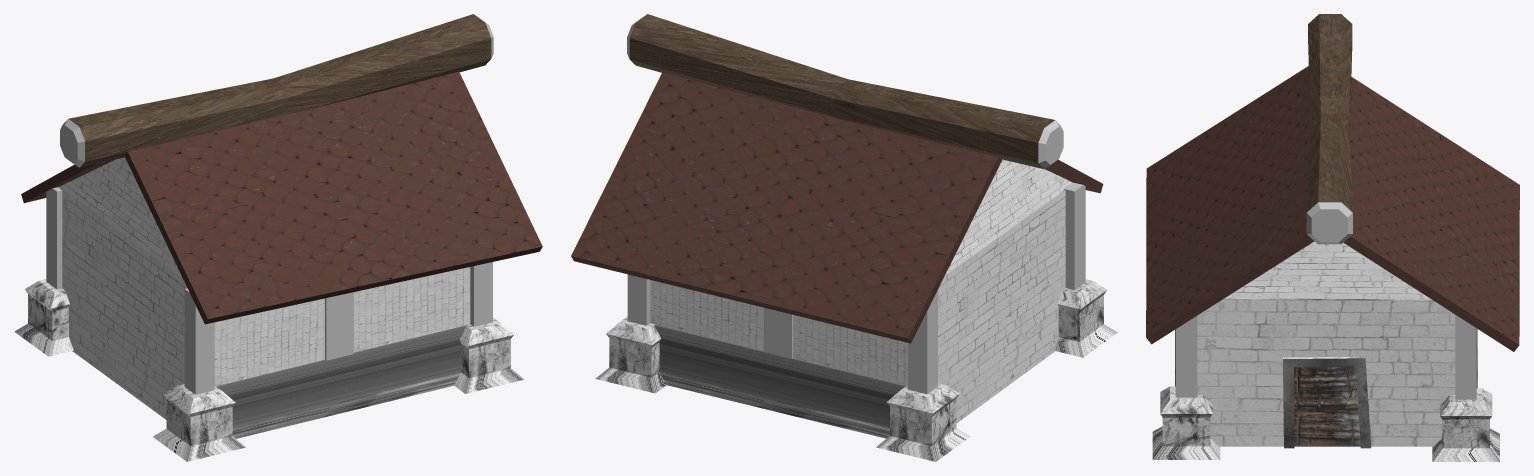
File: Hause_DZ-22.fbx
3 views of the same model, side by side, from view 1: azimuth 30°, elevation 25°; view 2: azimuth 150°, elevation 25°; view 3: azimuth 270°, elevation 25° (orthographic). The views are drawn at different scales.
Parts seen in each view (by area): view 1: Hause; view 2: Hause; view 3: Hause.
Part boxes in pixels (left/top/right/bottom): Hause: left=14, top=14, right=542, bottom=461; Hause: left=571, top=14, right=1117, bottom=461; Hause: left=1146, top=14, right=1519, bottom=461.
Size of the model in its own units: 1984 by 1307 by 1576.
